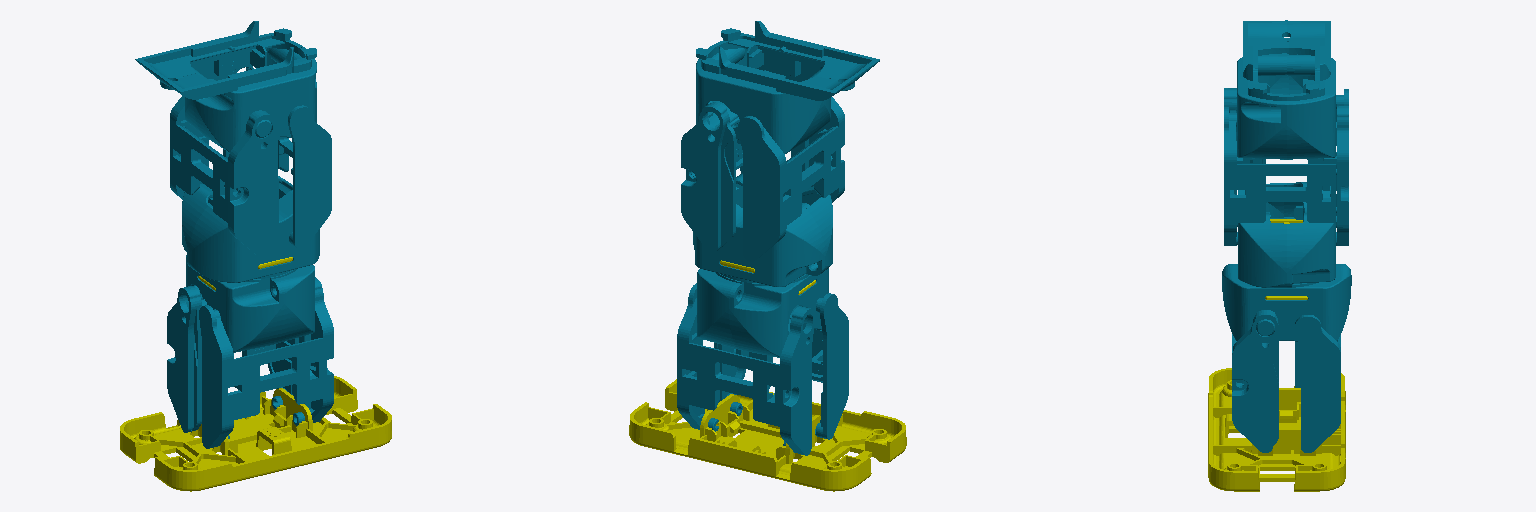
The robot description file, URDF, robot "axiom_right_leg_target_preview":
<?xml version="1.0"?>
<!-- SPDX-License-Identifier: Apache-2.0
  Marty right-leg geometry, adapted from marty2_description at 3e1e881.
  Hip target preview only; the knee and twist axes are fixed at neutral.
  See meshes/marty_right_leg/README.md for provenance and adaptations.
-->
<robot name="axiom_right_leg_target_preview">
  <material name="blue">
    <color rgba="0.07 0.52 .625 1" />
  </material>
  <material name="yellow">
    <color rgba=".8 .8 0 1" />
  </material>
  <link name="axiom_servo_demo_base" />
  <joint name="hip_right_joint" type="fixed">
    <origin rpy="0.0000 0.0000 0.0000" xyz="0 0 0.15" />
    <parent link="axiom_servo_demo_base" />
    <child link="hip_right" />
  </joint>
  <link name="hip_right">
    <visual>
      <geometry>
        <mesh filename="package://axiom_servo_demo/meshes/marty_right_leg/hip.stl" />
      </geometry>
      <origin rpy="0 0 0" xyz="0 0 0" />
      <material name="blue">
        <color rgba="0.07 0.52 .625 1" />
      </material>
    </visual>
  </link>
  <joint name="servo_joint" type="revolute">
    <origin rpy="0.0000 0.0000 0.0000" xyz="0.00000  0.00025 0.00000" />
    <parent link="hip_right" />
    <child link="leg_right_thigh_front" />
    <axis xyz="0 1 0" />
    <limit effort="30" lower="-1.0" upper="1.0" velocity="6.29" />
  </joint>
  <link name="leg_right_thigh_front">
    <visual>
      <geometry>
        <mesh filename="package://axiom_servo_demo/meshes/marty_right_leg/thigh.stl" />
      </geometry>
      <origin rpy="0 0 0" xyz="0 0 0" />
      <material name="blue">
        <color rgba="0.07 0.52 .625 1" />
      </material>
    </visual>
  </link>
  <joint name="leg_right_thigh_back_joint" type="revolute">
    <origin rpy="0.0000 0.0000 0.0000" xyz="-0.01620 -0.03795  0.00000" />
    <parent link="hip_right" />
    <child link="leg_right_thigh_back" />
    <axis xyz="0 1 0" />
    <mimic joint="servo_joint" multiplier="1" />
    <limit effort="30" lower="-1.0" upper="1.0" velocity="6.29" />
  </joint>
  <link name="leg_right_thigh_back">
    <visual>
      <geometry>
        <mesh filename="package://axiom_servo_demo/meshes/marty_right_leg/thigh.stl" />
      </geometry>
      <origin rpy="0 0 3.1416" xyz="0 0 0" />
      <material name="blue">
        <color rgba="0.07 0.52 .625 1" />
      </material>
    </visual>
  </link>
  <joint name="leg_right_knee_upper_joint" type="revolute">
    <origin rpy="0.0000 0.0000 0.0000" xyz="0.00000  -0.00015  -0.05000" />
    <parent link="leg_right_thigh_front" />
    <child link="leg_right_knee_upper" />
    <axis xyz="0 1 0" />
    <mimic joint="servo_joint" multiplier="-1" />
    <limit effort="30" lower="-1.0" upper="1.0" velocity="6.29" />
  </joint>
  <link name="leg_right_knee_upper">
    <visual>
      <geometry>
        <mesh filename="package://axiom_servo_demo/meshes/marty_right_leg/knee_upper.stl" />
      </geometry>
      <origin rpy="0 0 0" xyz="0 0 0" />
      <material name="blue">
        <color rgba="0.07 0.52 .625 1" />
      </material>
    </visual>
  </link>
  <joint name="leg_right_twist_upper_joint" type="fixed">
    <origin rpy="0.0000 0.0000 0.0000" xyz="-0.00810 -0.01885  -0.00968" />
    <parent link="leg_right_knee_upper" />
    <child link="leg_right_twist_upper" />
  </joint>
  <link name="leg_right_twist_upper">
    <visual>
      <geometry>
        <mesh filename="package://axiom_servo_demo/meshes/marty_right_leg/twist_upper.stl" />
      </geometry>
      <origin rpy="0 0 0" xyz="0 0 0" />
      <material name="yellow">
        <color rgba=".8 .8 0 1" />
      </material>
    </visual>
  </link>
  <joint name="leg_right_twist_joint" type="fixed">
    <origin rpy="0.0000 0.0000 0.0000" xyz="0.0000 0.0000 0.0000" />
    <parent link="leg_right_twist_upper" />
    <child link="leg_right_twist_lower" />
  </joint>
  <link name="leg_right_twist_lower">
    <visual>
      <geometry>
        <mesh filename="package://axiom_servo_demo/meshes/marty_right_leg/twist_lower.stl" />
      </geometry>
      <origin rpy="0 0 0" xyz="0 0 0" />
      <material name="yellow">
        <color rgba=".8 .8 0 1" />
      </material>
    </visual>
  </link>
  <joint name="leg_right_knee_lower_joint" type="fixed">
    <origin rpy="0.0000 0.0000 0.0000" xyz="-0.01885 0.00810 -0.02075" />
    <parent link="leg_right_twist_lower" />
    <child link="leg_right_knee_lower" />
  </joint>
  <link name="leg_right_knee_lower">
    <visual>
      <geometry>
        <mesh filename="package://axiom_servo_demo/meshes/marty_right_leg/knee_lower.stl" />
      </geometry>
      <origin rpy="0 0 0" xyz="0 0 0" />
      <material name="blue">
        <color rgba="0.07 0.52 .625 1" />
      </material>
    </visual>
  </link>
  <joint name="leg_right_shin_exterior_joint" type="fixed">
    <origin rpy="0.0000 0.0000 0.0000" xyz="0.03770  -0.01620  0.00000" />
    <parent link="leg_right_knee_lower" />
    <child link="leg_right_shin_exterior" />
  </joint>
  <link name="leg_right_shin_exterior">
    <visual>
      <geometry>
        <mesh filename="package://axiom_servo_demo/meshes/marty_right_leg/shin.stl" />
      </geometry>
      <origin rpy="0 0 3.1416" xyz="0 0 0" />
      <material name="blue">
        <color rgba="0.07 0.52 .625 1" />
      </material>
    </visual>
  </link>
  <joint name="leg_right_shin_joint" type="fixed">
    <origin rpy="0.0000 0.0000 0.0000" xyz="0.0000 0.0000 0.0000" />
    <parent link="leg_right_knee_lower" />
    <child link="leg_right_shin_interior" />
  </joint>
  <link name="leg_right_shin_interior">
    <visual>
      <geometry>
        <mesh filename="package://axiom_servo_demo/meshes/marty_right_leg/shin.stl" />
      </geometry>
      <origin rpy="0 0 0" xyz="0 0 0" />
      <material name="blue">
        <color rgba="0.07 0.52 .625 1" />
      </material>
    </visual>
  </link>
  <joint name="foot_right_joint" type="fixed">
    <origin rpy="0.0000 0.0000 0.0000" xyz="0 0 -0.05000" />
    <parent link="leg_right_shin_interior" />
    <child link="foot_right" />
  </joint>
  <link name="foot_right">
    <visual>
      <geometry>
        <mesh filename="package://axiom_servo_demo/meshes/marty_right_leg/foot.stl" />
      </geometry>
      <origin rpy="0 0 3.1416" xyz="0.0379 -0.0162 0" />
      <material name="yellow">
        <color rgba=".8 .8 0 1" />
      </material>
    </visual>
  </link>
</robot>

--- Render facts (derived) ---
Views: 3 orthographic renders of the robot side by side, from view 1: azimuth 30°, elevation 25°; view 2: azimuth 150°, elevation 25°; view 3: azimuth 270°, elevation 25°.
Model axiom_right_leg_target_preview with 11 links and 10 joints (3 revolute, 7 fixed), rooted at axiom_servo_demo_base, posed all joints at 0.
Visible links, largest first — view 1: foot_right, hip_right, leg_right_shin_exterior, leg_right_thigh_back, leg_right_knee_lower, leg_right_knee_upper, leg_right_thigh_front, leg_right_shin_interior; view 2: foot_right, hip_right, leg_right_shin_interior, leg_right_thigh_back, leg_right_knee_lower, leg_right_thigh_front, leg_right_knee_upper, leg_right_shin_exterior; view 3: hip_right, foot_right, leg_right_thigh_front, leg_right_knee_upper, leg_right_knee_lower, leg_right_shin_exterior, leg_right_shin_interior, leg_right_thigh_back.
Link boxes in pixels (x1,y1,x2,y2): foot_right: (120, 376, 391, 491); hip_right: (135, 21, 316, 152); leg_right_shin_exterior: (199, 277, 333, 448); leg_right_thigh_back: (170, 95, 278, 258); leg_right_knee_lower: (186, 255, 314, 352); leg_right_knee_upper: (182, 176, 319, 282); leg_right_thigh_front: (223, 64, 331, 248); leg_right_shin_interior: (167, 286, 298, 432); foot_right: (629, 379, 906, 491); hip_right: (696, 21, 879, 153); leg_right_shin_interior: (677, 283, 814, 455); leg_right_thigh_back: (738, 97, 844, 261); leg_right_knee_lower: (697, 268, 828, 357); leg_right_thigh_front: (681, 102, 742, 252); leg_right_knee_upper: (693, 173, 832, 286); leg_right_shin_exterior: (714, 293, 848, 439); hip_right: (1237, 20, 1335, 159); foot_right: (1208, 368, 1345, 491); leg_right_thigh_front: (1224, 105, 1348, 245); leg_right_knee_upper: (1238, 182, 1335, 287); leg_right_knee_lower: (1222, 264, 1351, 342); leg_right_shin_exterior: (1232, 310, 1278, 452); leg_right_shin_interior: (1295, 315, 1340, 452); leg_right_thigh_back: (1224, 88, 1348, 227).
Bounding box of the posed robot: 0.0949 × 0.0547 × 0.1636 m (x, y, z).
Meshes: 8 distinct files referenced, 10 mesh visuals loaded (8 binary STL).
